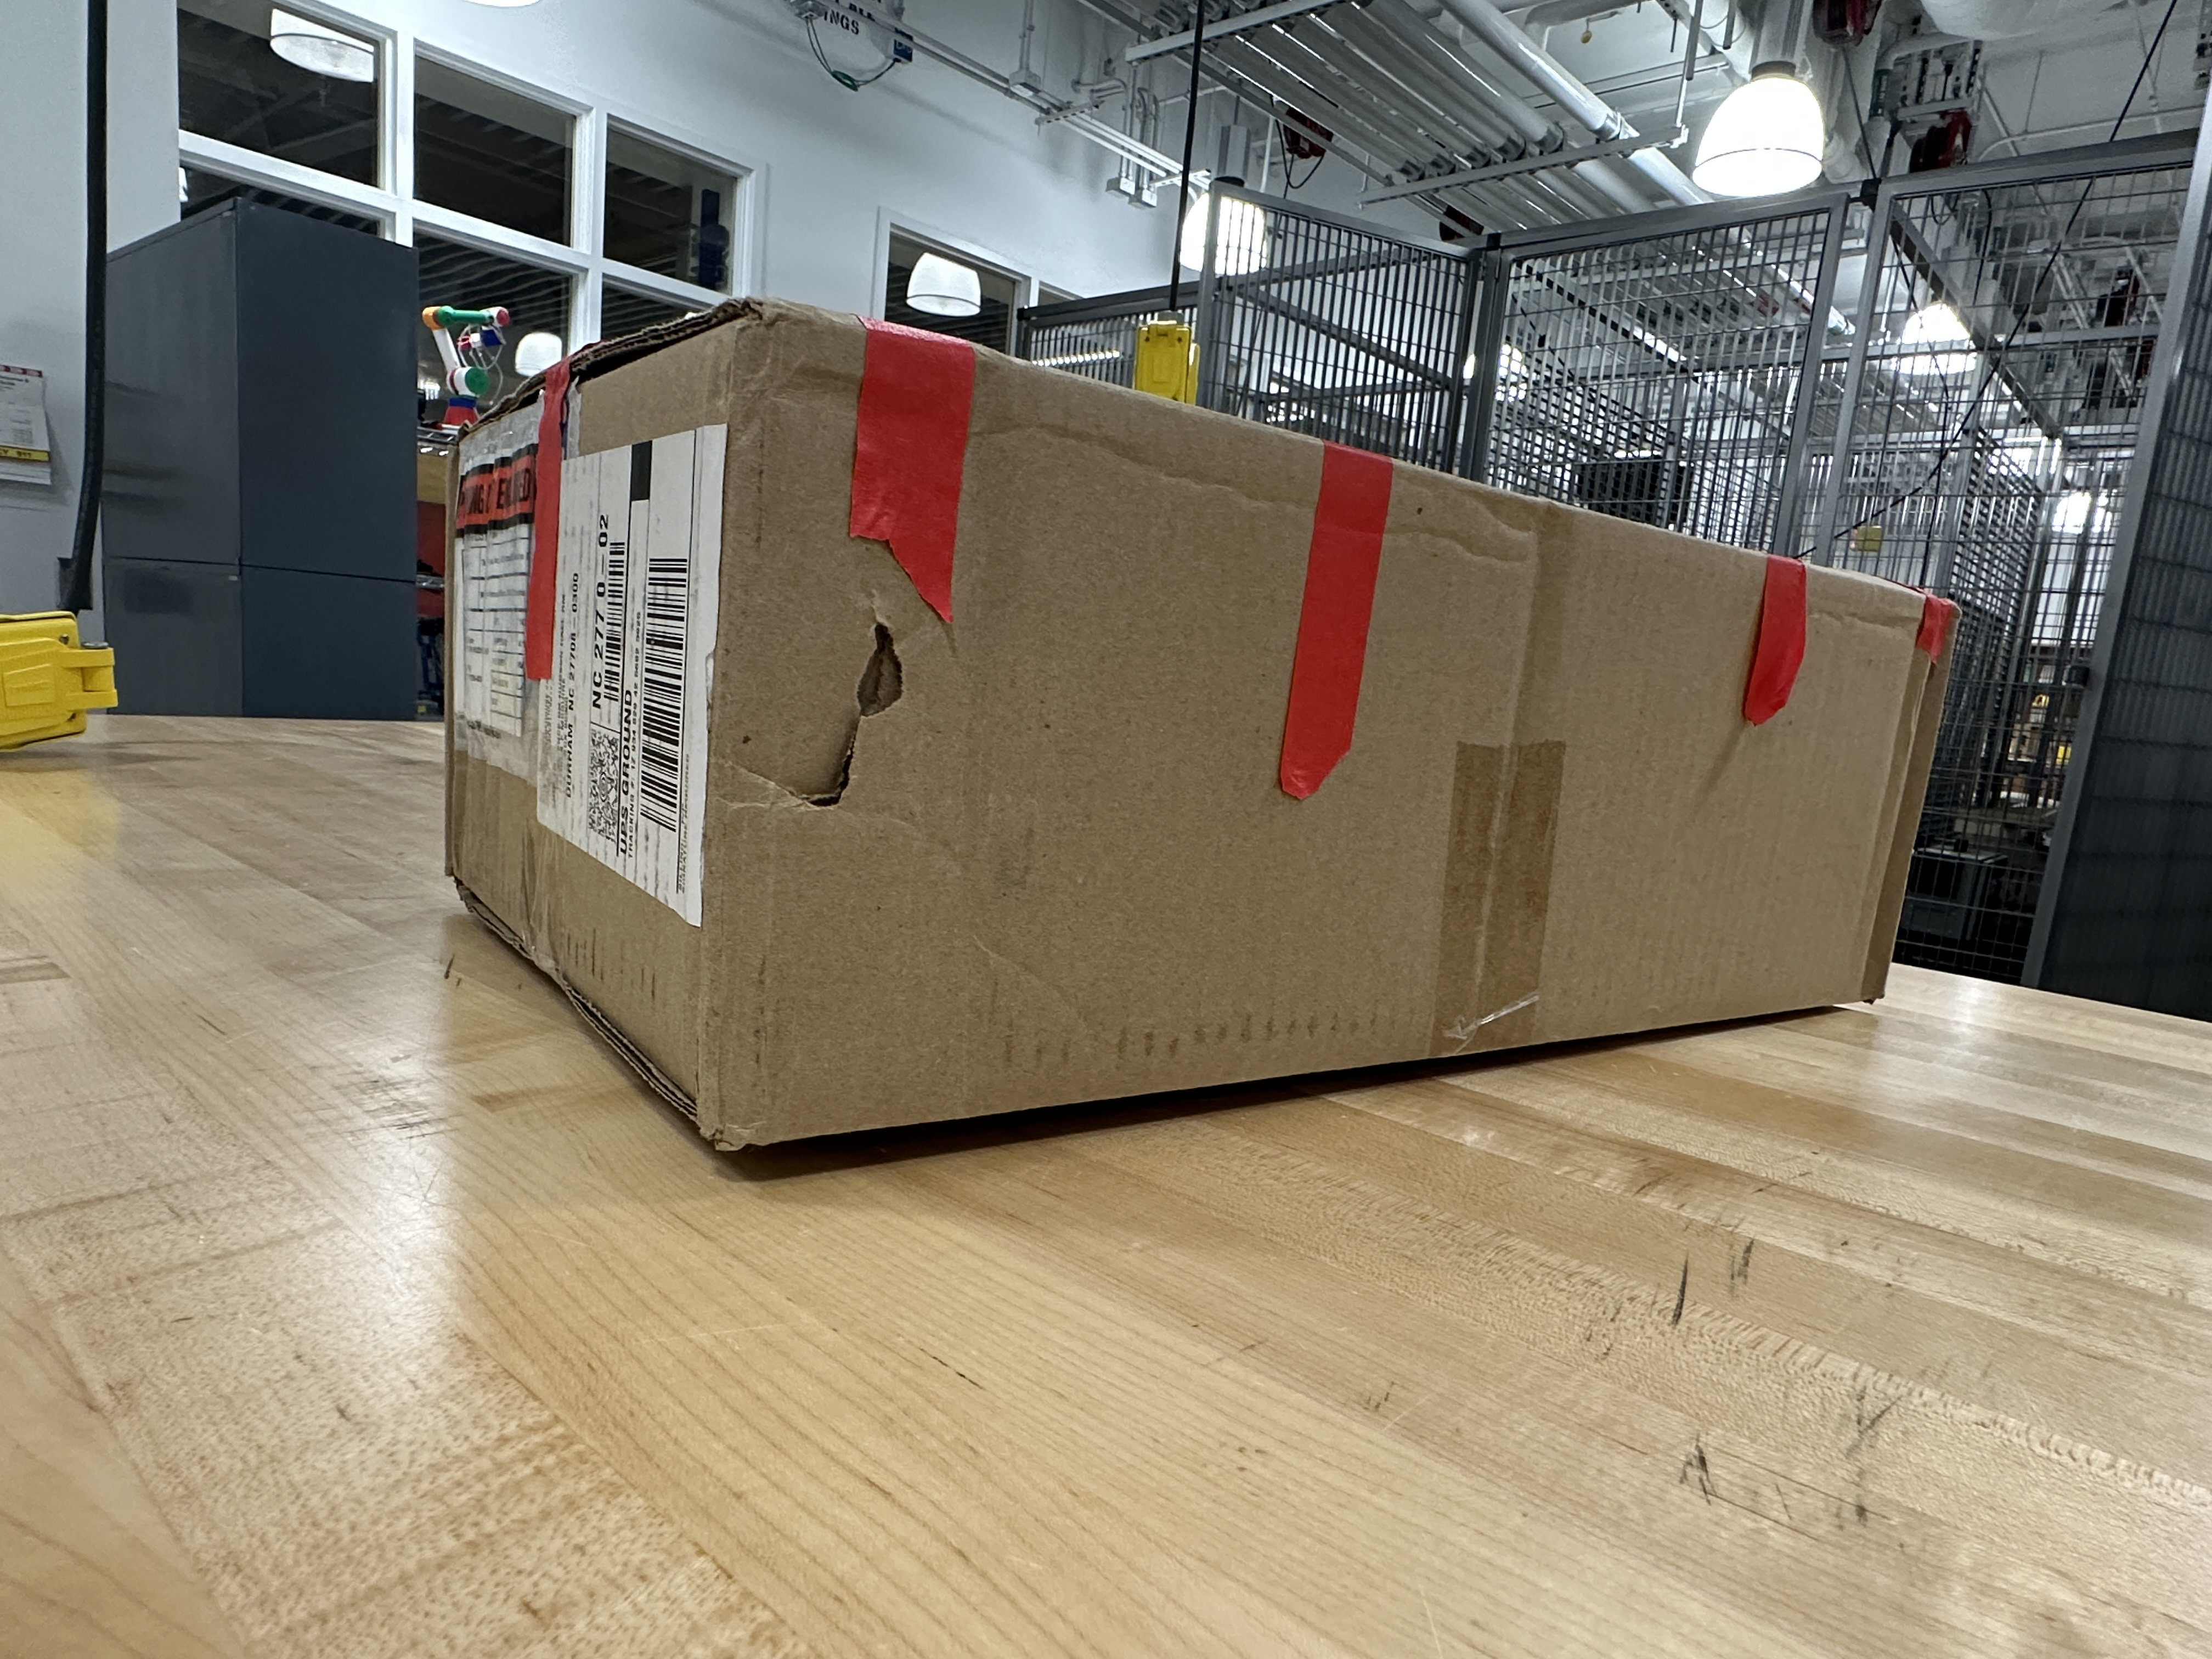Box_Obstacle: (432, 282, 1977, 1185)
